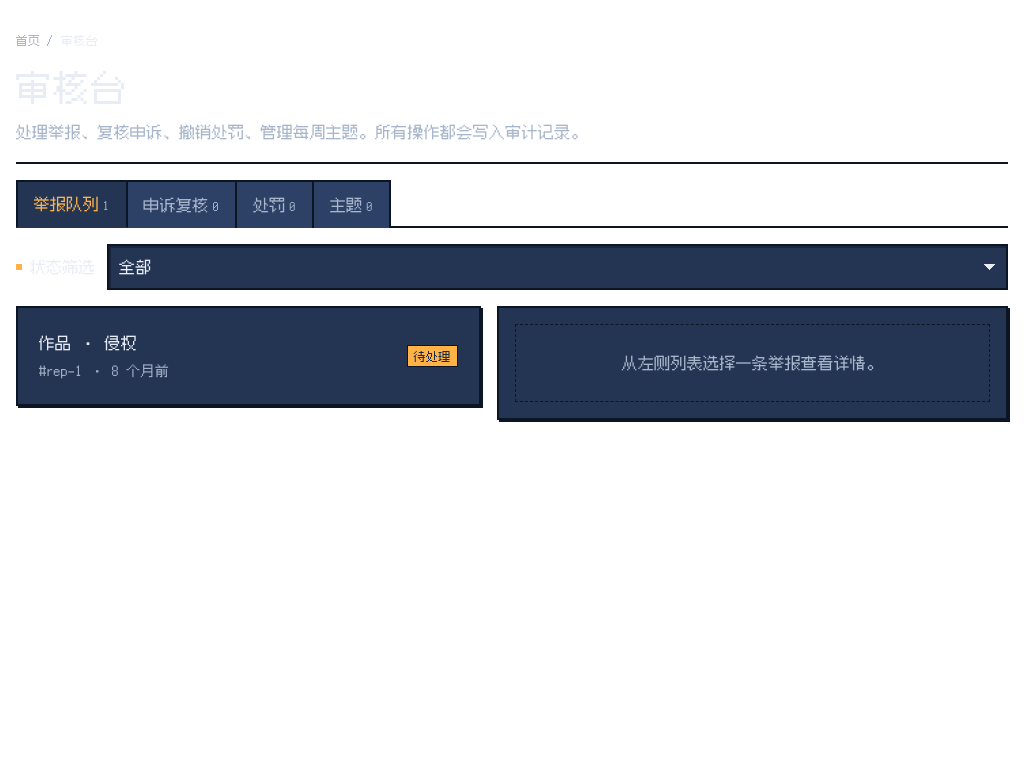
Test: 举报队列 › 已结案的举报不再显示裁定区，而是结论
The image size is (1024, 762).
Click the button "作品 · 侵权 #rep-1 · 8 个月前 待处理" at (55,342), box [26, 316, 471, 396]
(page scrolled)
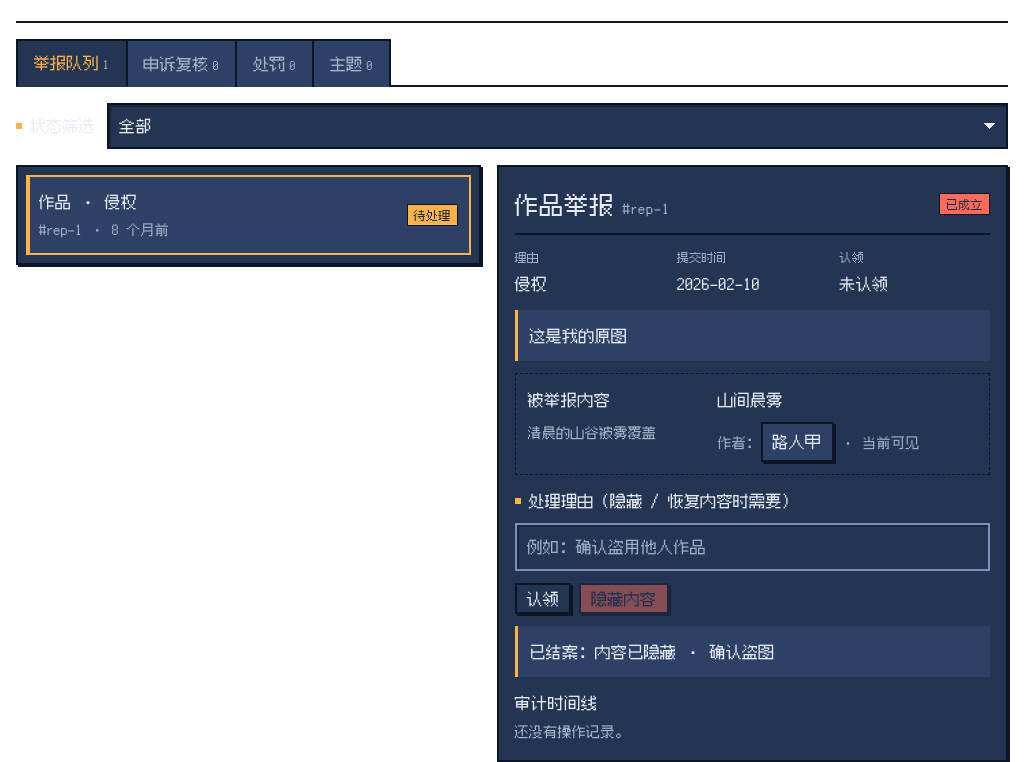
Expected: the text "已结案：内容已隐藏 · 确认盗图" is shown, [515, 626, 990, 677]
